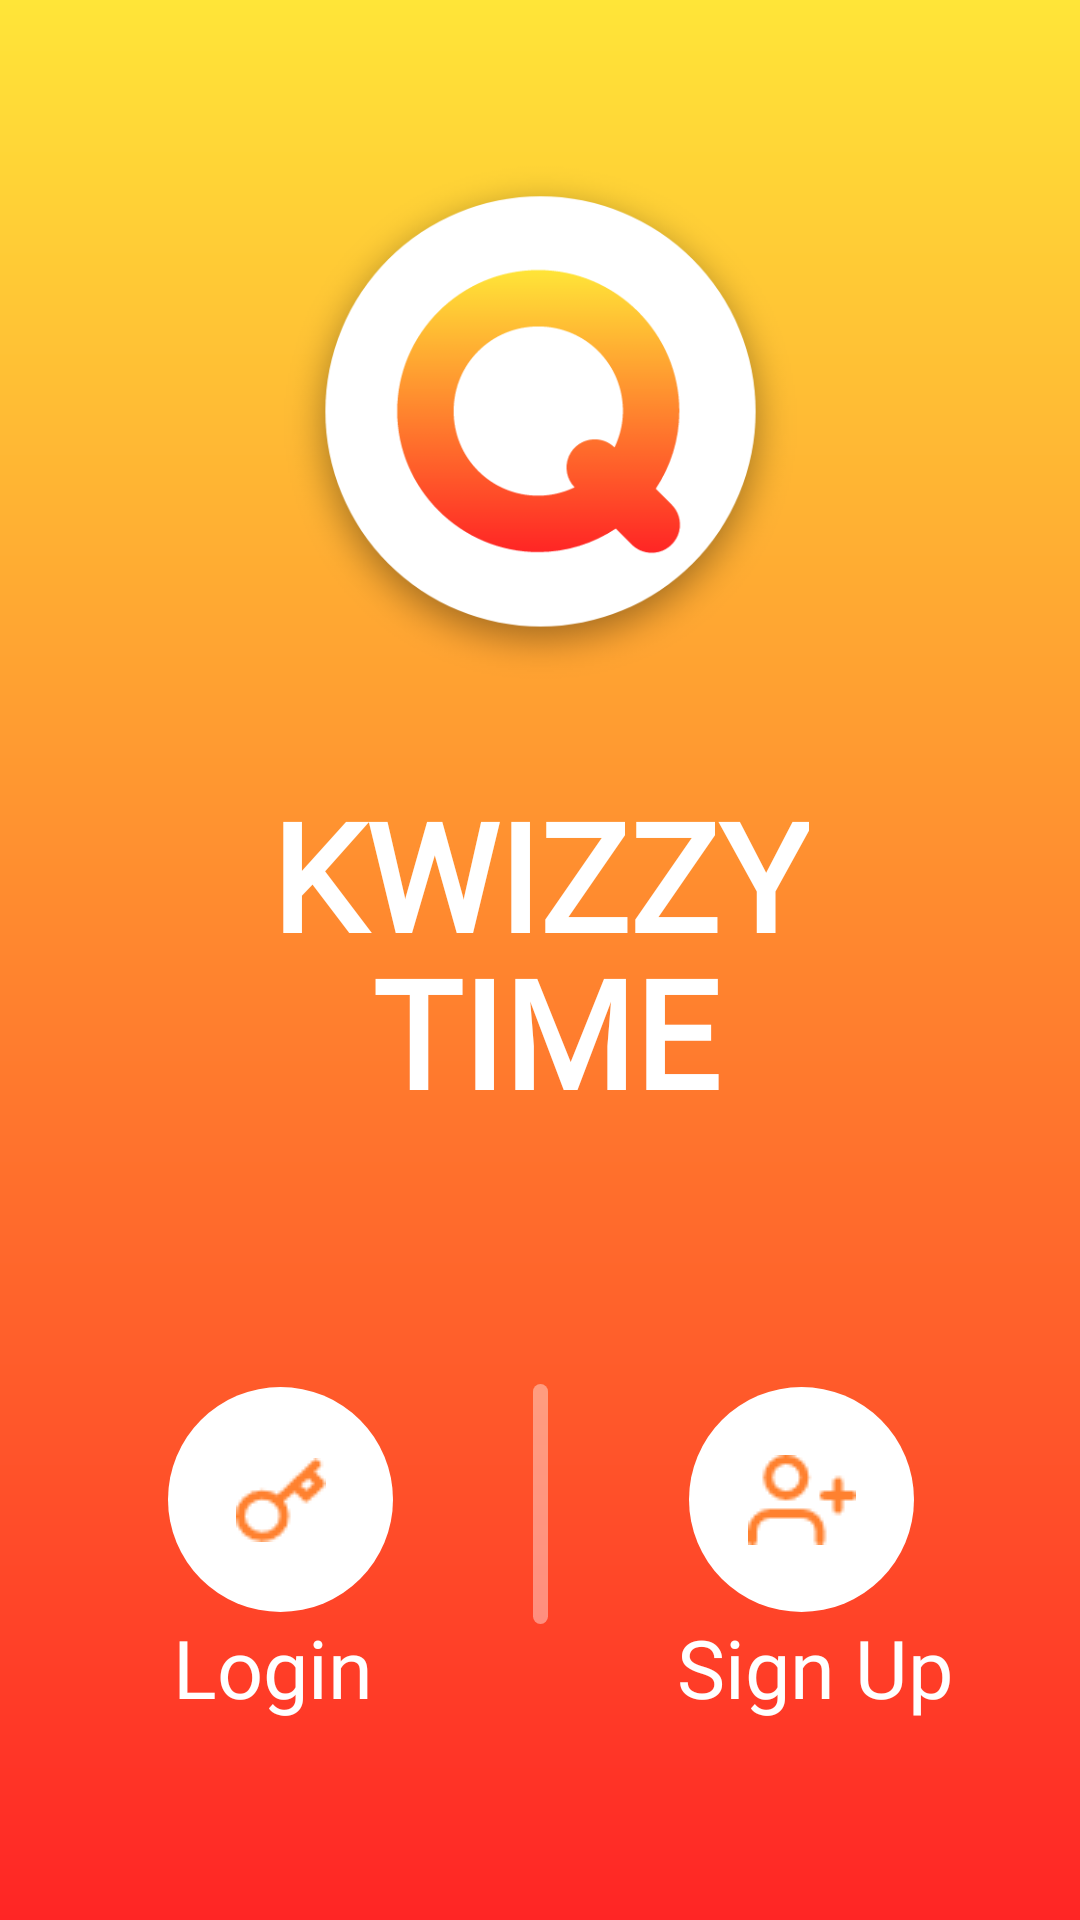

Screen size 1080*1920. Icon name, then its box in pixels as [x1,y1,x2,y2]:
key: [168,1387,393,1612]
